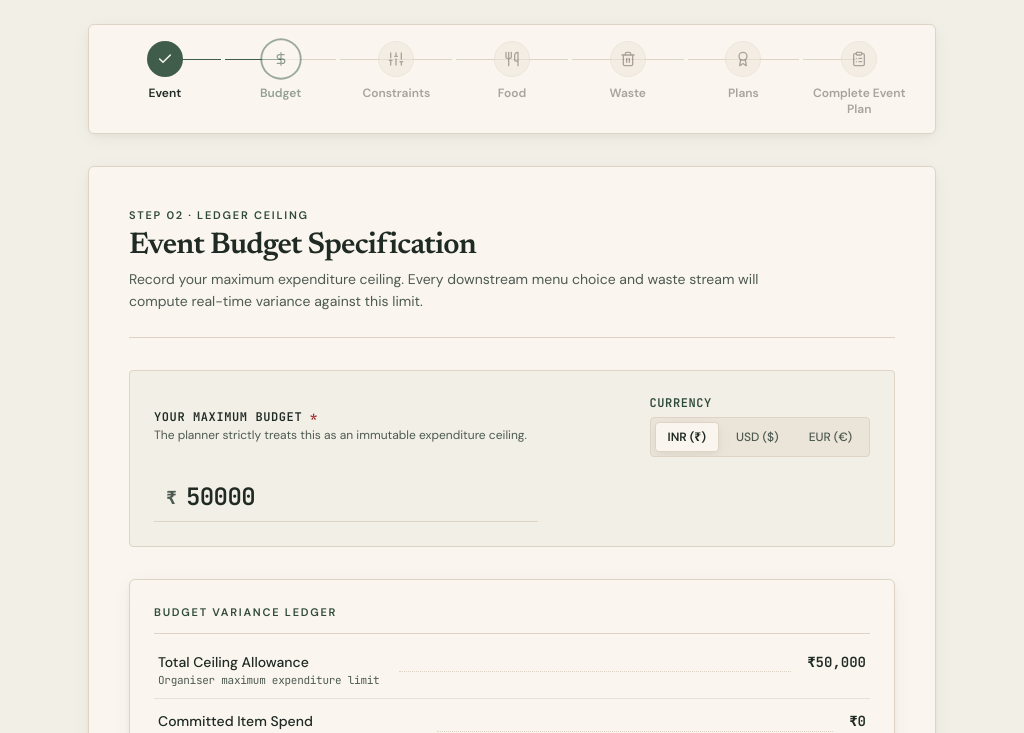
Test case: Budget and Event Preferences (Constraints) Steps › rejects negative budget input
The image size is (1024, 733).
Type "-500" into the number field labelled "Your Maximum Budget *" at (346,498), box [154,473,538,522]
(page scrolled)
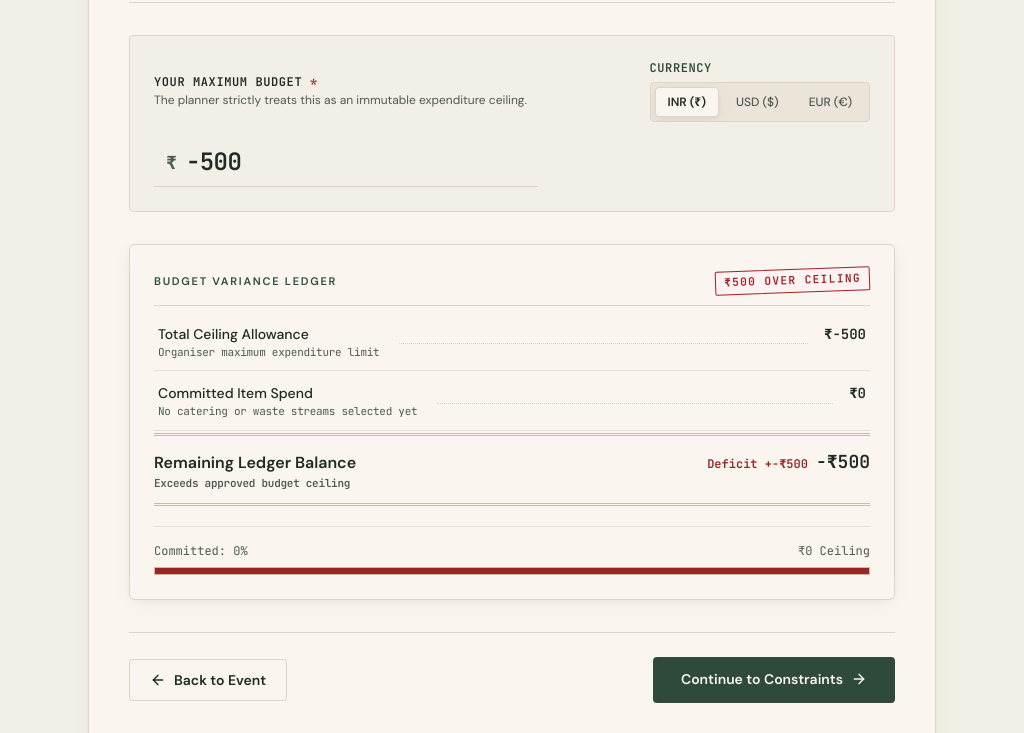
Click the button "Continue to Constraints" at (774,680), box [653,657,895,703]
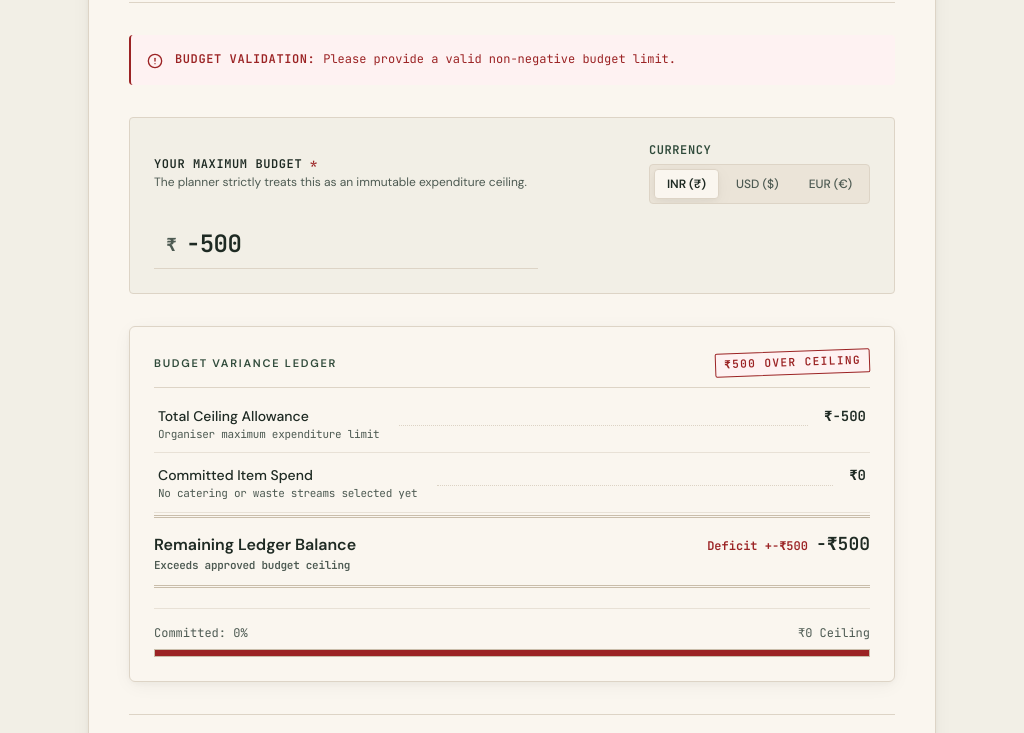
expect the message "Budget Validation: Please provide a valid non-negative budget limit." is shown: met, box [129,35,895,85]
